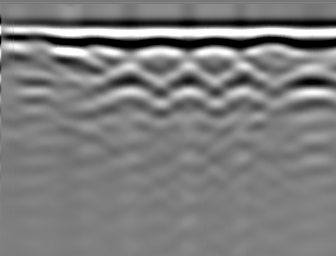pipe: (18, 28, 59, 53)
steel: (103, 68, 155, 104), (224, 68, 270, 106), (288, 70, 336, 104), (168, 68, 215, 102)
